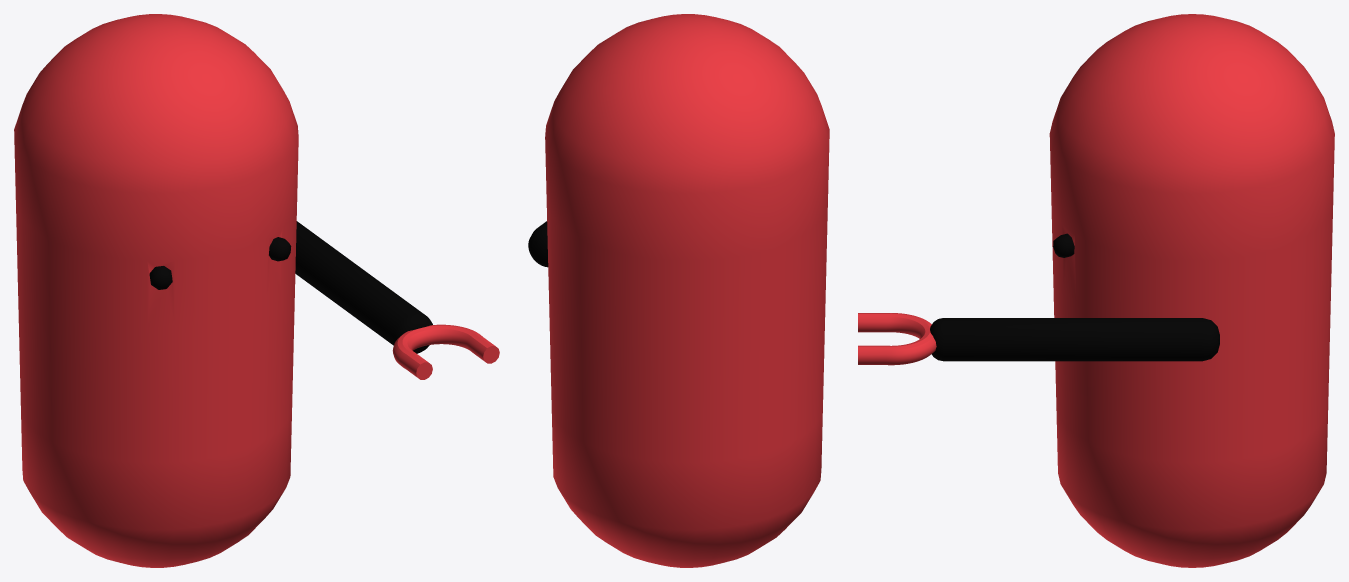
Rendered from robot1.glb.
The picture shows the model from 3 angles, left to right: view 1: azimuth 30°, elevation 25°; view 2: azimuth 150°, elevation 25°; view 3: azimuth 270°, elevation 25°; orthographic projection.
Visible parts, largest first — view 1: robot_body, robot_arm, robot_hand, robot_eye; view 2: robot_body, robot_arm; view 3: robot_body, robot_arm, robot_hand.
Part boxes in pixels (x1=…): robot_body: x1=14, y1=14, x2=298, y2=567; robot_arm: x1=295, y1=221, x2=432, y2=353; robot_hand: x1=392, y1=324, x2=499, y2=379; robot_eye: x1=149, y1=237, x2=291, y2=289; robot_body: x1=545, y1=14, x2=829, y2=567; robot_arm: x1=528, y1=221, x2=548, y2=267; robot_body: x1=1049, y1=14, x2=1334, y2=567; robot_arm: x1=930, y1=318, x2=1219, y2=361; robot_hand: x1=858, y1=313, x2=936, y2=365.
Size of the model in its own units: 1.19 by 2 by 1.64.
